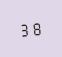eight: (31, 20, 42, 35)
three: (19, 21, 30, 37)
